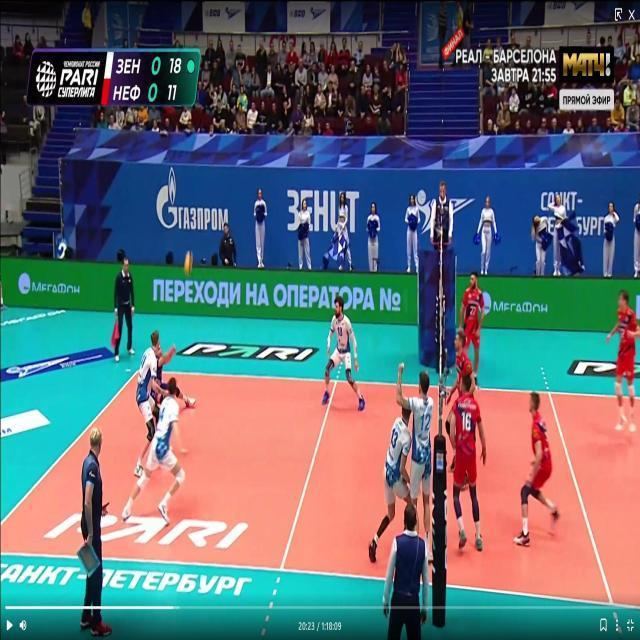volleyball: (184, 250, 194, 272)
